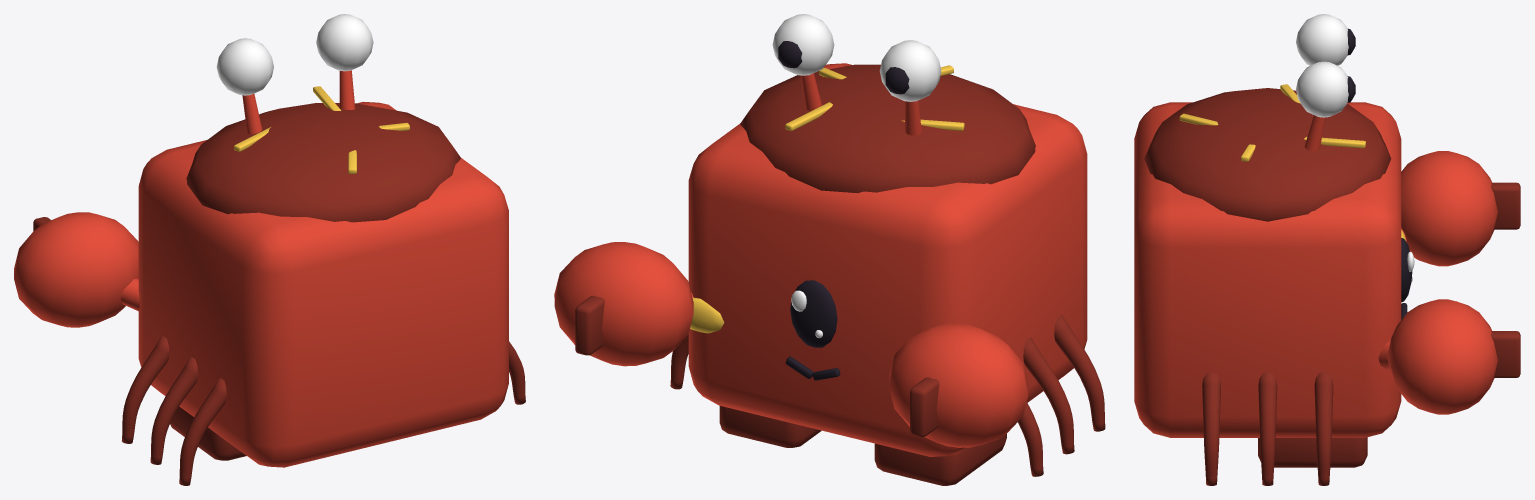
The model's file is pet_lavacrab.fbx.
3 renders of one model, left to right at view 1: azimuth 30°, elevation 25°; view 2: azimuth 150°, elevation 25°; view 3: azimuth 270°, elevation 25°, orthographic. The views are drawn at different scales.
Visible parts, largest first — view 1: pet_lavacrab; view 2: pet_lavacrab; view 3: pet_lavacrab.
Boxes of the visible parts, x1=… form: pet_lavacrab: x1=14, y1=14, x2=525, y2=485; pet_lavacrab: x1=554, y1=14, x2=1105, y2=485; pet_lavacrab: x1=1134, y1=14, x2=1520, y2=485.
Bounding box in the file's own units: 3.44 × 2.98 × 2.75.
1 material, 1 textured.
